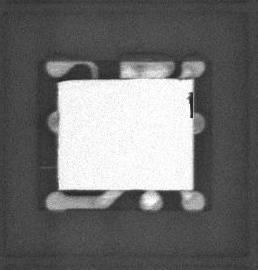DIE_BROKEN: (186, 90, 195, 119)
